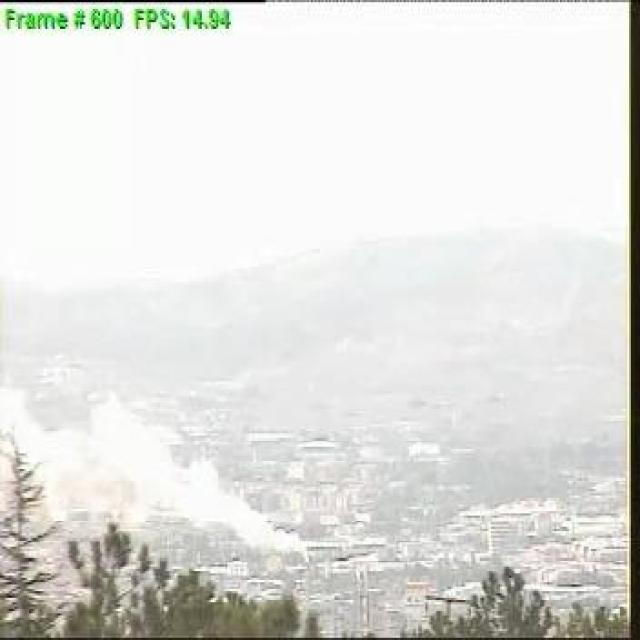Smoke: (83, 380, 310, 558)
